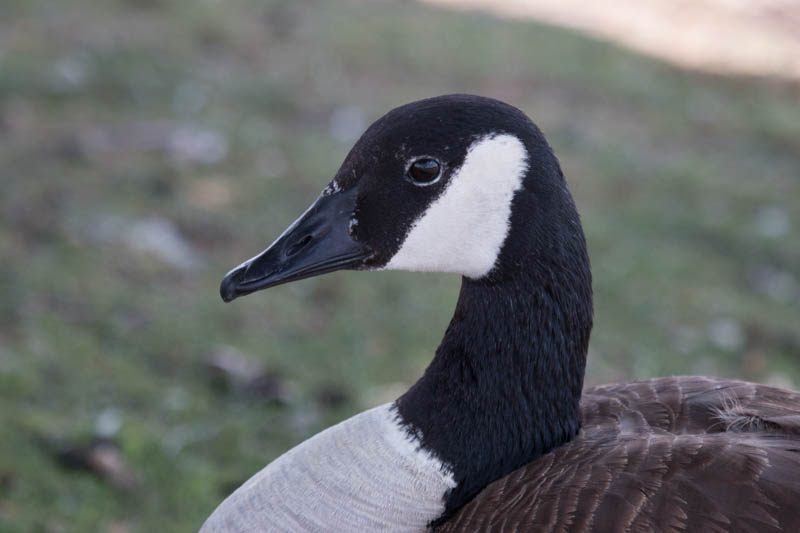goose-head: (219, 94, 593, 304)
